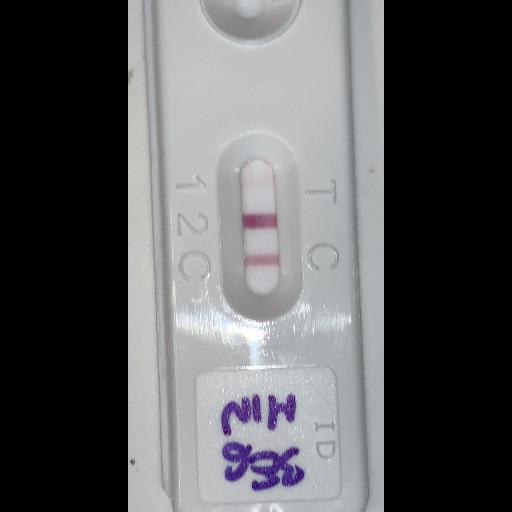Pos: (150, 0, 364, 510)
